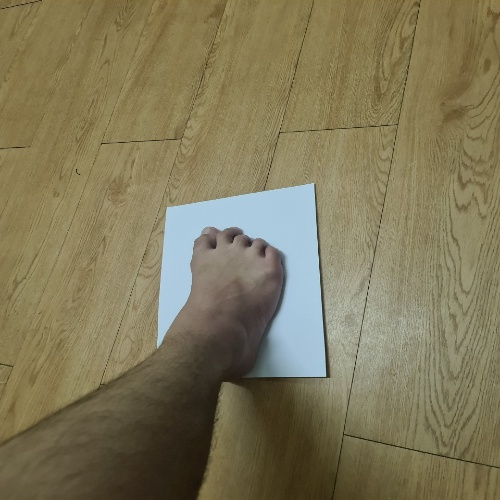Top_Foot: (125, 171, 351, 403)
